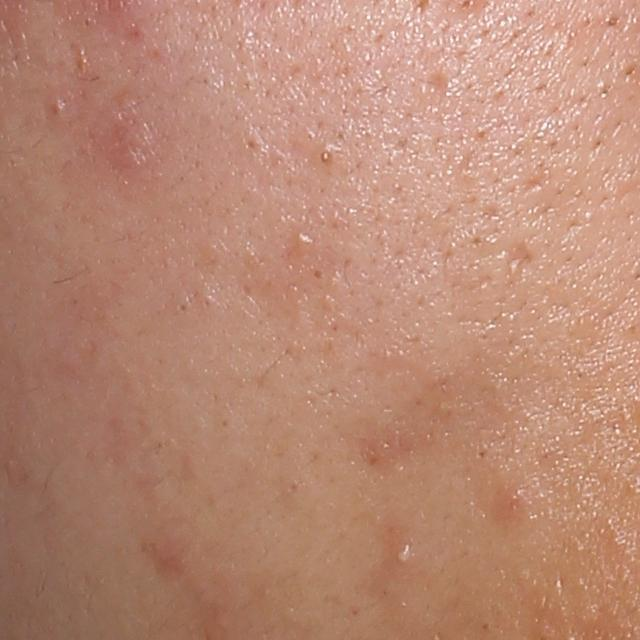atrophic_scar: (420, 68, 453, 111), (505, 242, 537, 286)
comedo: (294, 233, 317, 253), (317, 147, 336, 170), (312, 267, 327, 282)
papule: (106, 112, 156, 168), (488, 482, 537, 522)
pustule: (388, 542, 417, 567)
